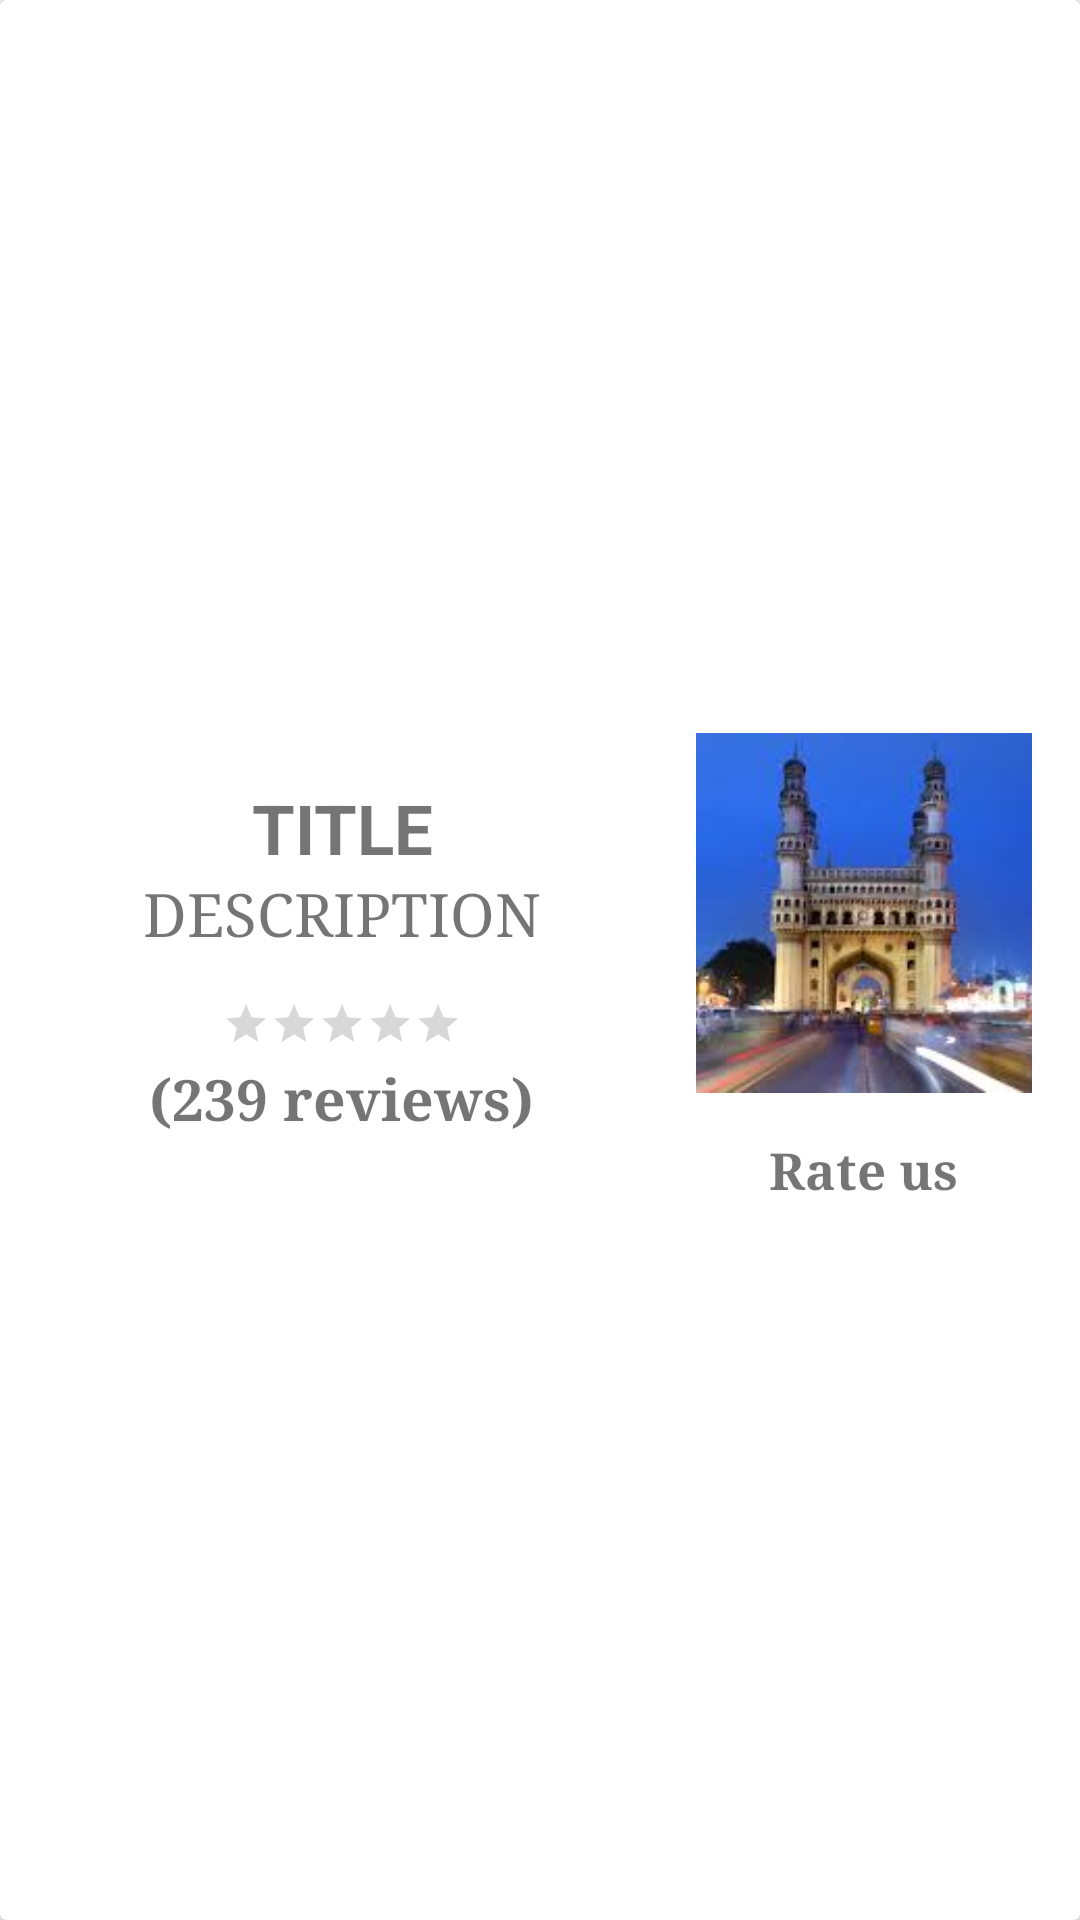

Where icons sit on this 1080×1920 app screen, as Rect(x1, y1, x2, y2):
hyderabad: Rect(696, 733, 1032, 1093)
